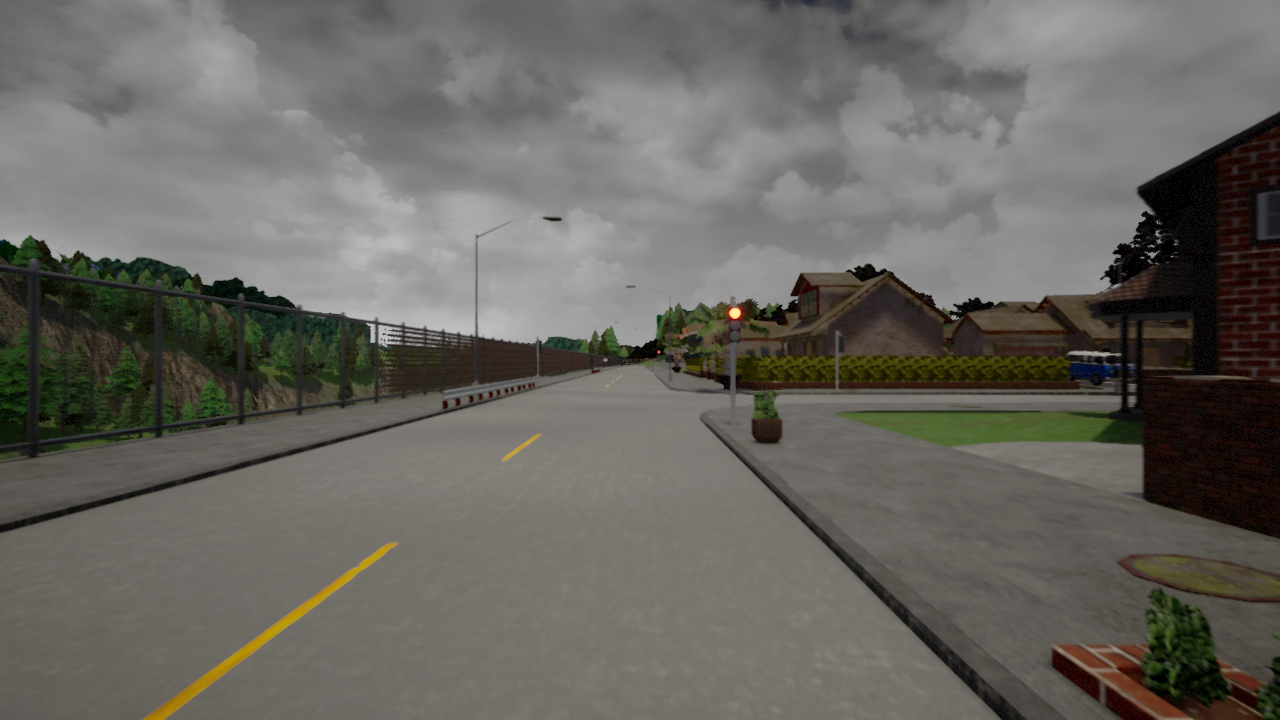red: (728, 305, 741, 343)
